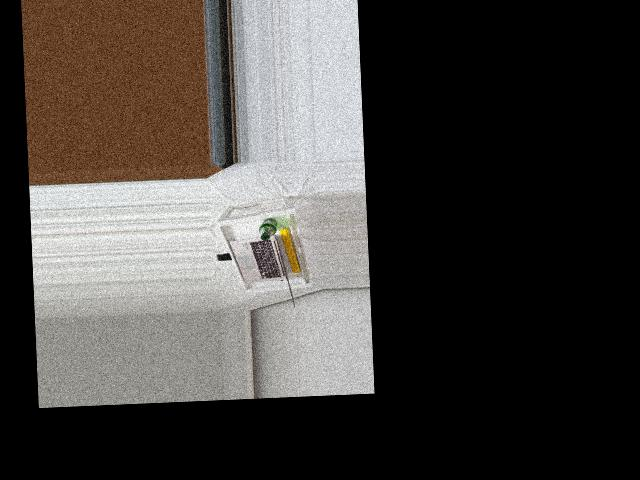beer: (258, 217, 278, 240)
